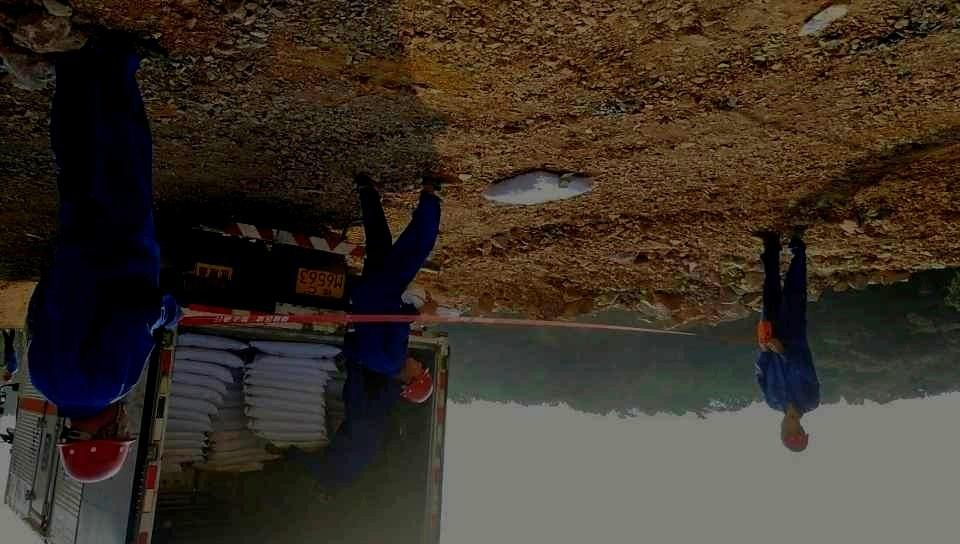helmet: (55, 401, 136, 484), (398, 358, 434, 403), (780, 414, 809, 453), (2, 371, 14, 383)
